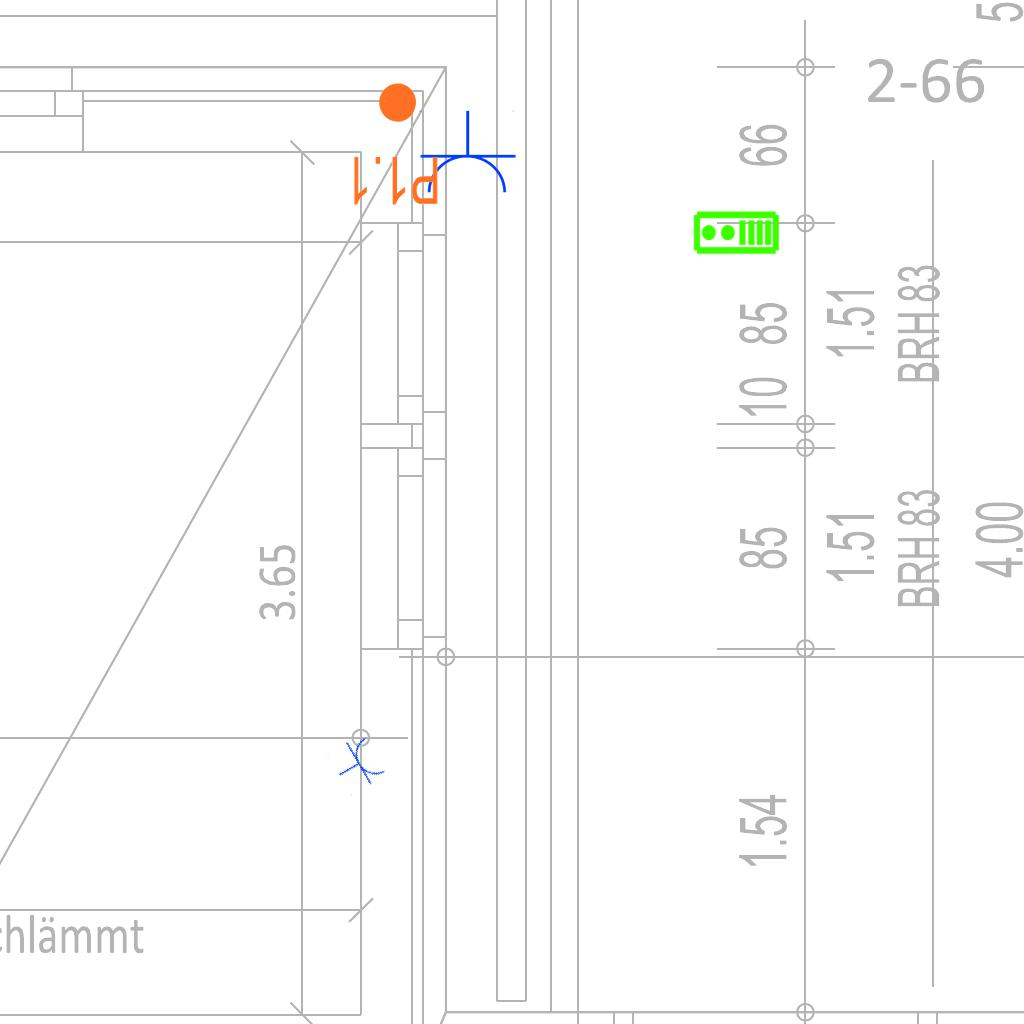Downlight_LED_Einbauleuchten_Flur: (348, 80, 441, 208)
Gegensprechanlage_mit_Video: (692, 210, 780, 257)
Schukosteckdose_einfach: (417, 110, 517, 197), (326, 732, 390, 797)
